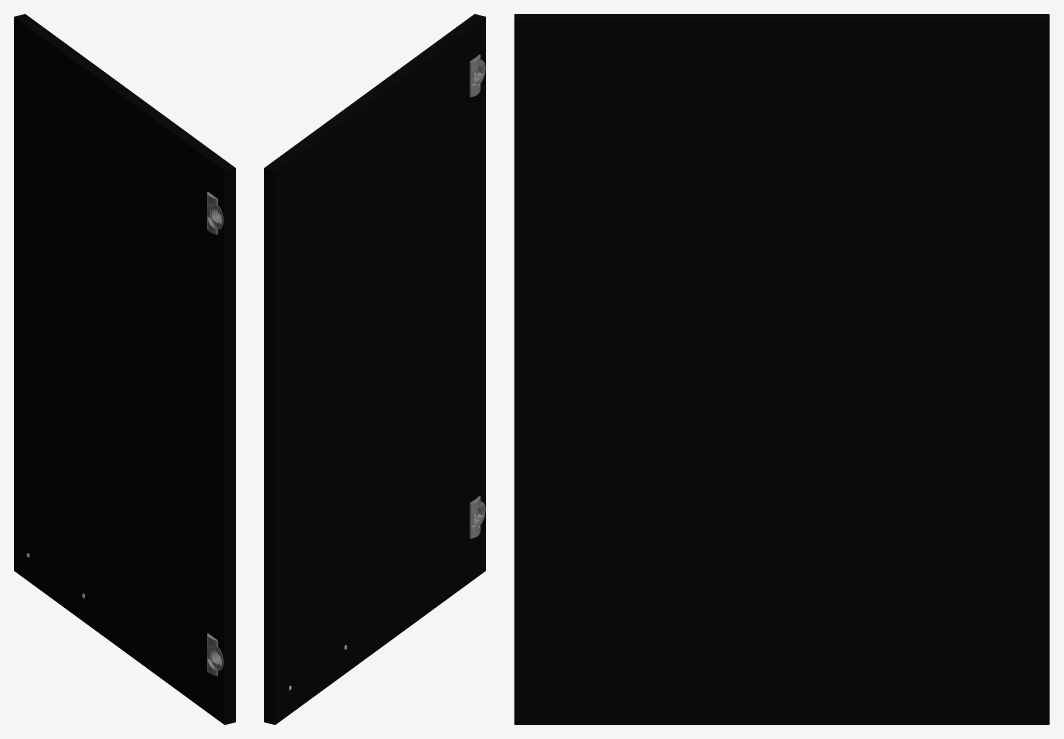
File: IAIDoorW60H80.dae
The picture shows the model from 3 angles, left to right: view 1: azimuth 30°, elevation 25°; view 2: azimuth 150°, elevation 25°; view 3: azimuth 270°, elevation 25°; orthographic projection. The views are drawn at different scales.
Visible parts, largest first — view 1: SM_Kitchen_01_Door_01; view 2: SM_Kitchen_01_Door_01; view 3: SM_Kitchen_01_Door_01.
Boxes of the visible parts, left/top/right/bottom form: SM_Kitchen_01_Door_01: left=14, top=14, right=235, bottom=724; SM_Kitchen_01_Door_01: left=264, top=14, right=485, bottom=724; SM_Kitchen_01_Door_01: left=514, top=14, right=1049, bottom=724.
Size of the model in its own units: 0.0249 by 0.5969 by 0.8668.
3 materials, 1 textured.
